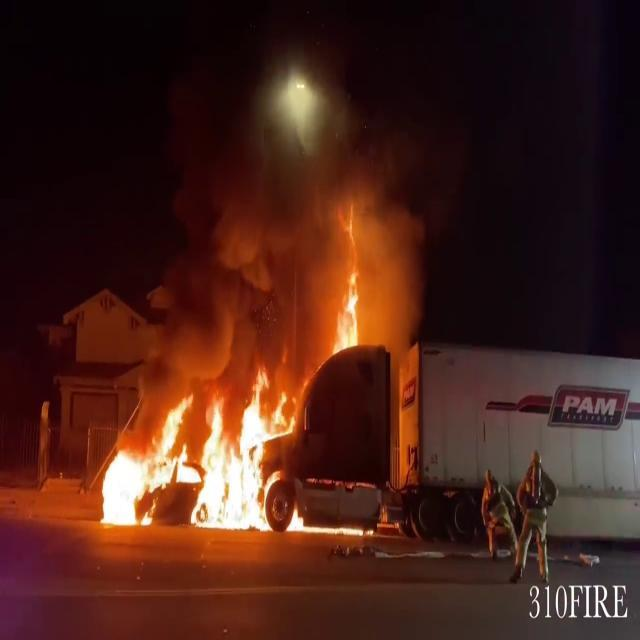Fire: (96, 360, 310, 530), (333, 256, 365, 352)
Smoke: (144, 123, 418, 384)
